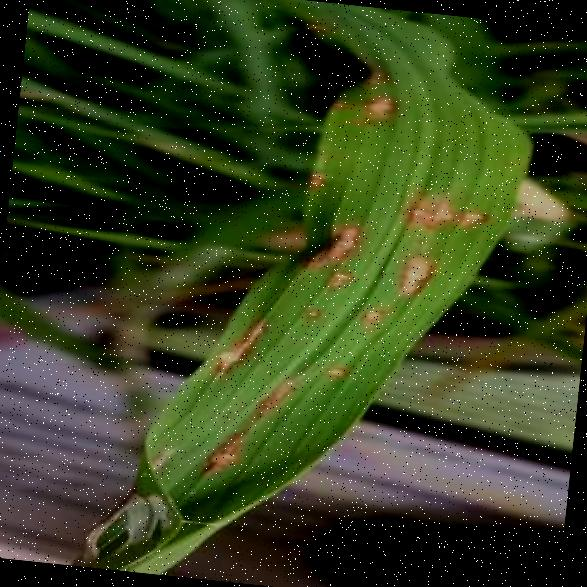Leaf_smut: (198, 286, 284, 378), (282, 200, 377, 282), (168, 411, 264, 489), (218, 367, 320, 435), (396, 180, 493, 236), (378, 239, 440, 302), (348, 46, 408, 102), (350, 72, 404, 130), (344, 285, 396, 343), (312, 80, 362, 130), (286, 152, 337, 200), (316, 261, 366, 303), (286, 291, 332, 334), (306, 349, 352, 388), (301, 6, 343, 42)
